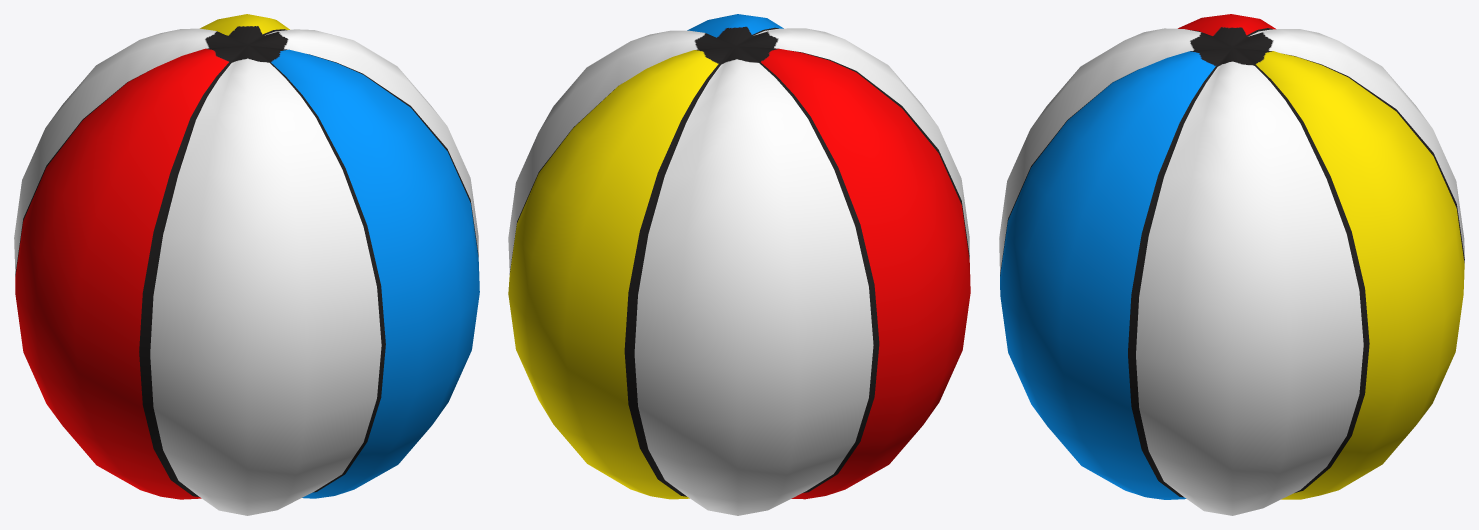
The model's file is PelotaU.fbx.
3 views of the same model, side by side, from view 1: azimuth 30°, elevation 25°; view 2: azimuth 150°, elevation 25°; view 3: azimuth 270°, elevation 25° (orthographic).
Parts seen in each view (by area): view 1: Pelota; view 2: Pelota; view 3: Pelota.
Part boxes in pixels (bbox=[...]): Pelota: bbox=[14, 14, 479, 515]; Pelota: bbox=[508, 14, 970, 515]; Pelota: bbox=[999, 14, 1464, 515].
Bounding box in the file's own units: 1.89 × 1.87 × 1.79.
